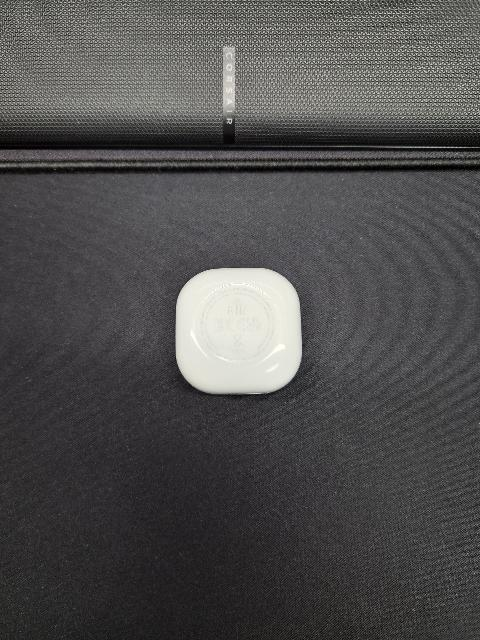earphone_case: (174, 268, 302, 394)
